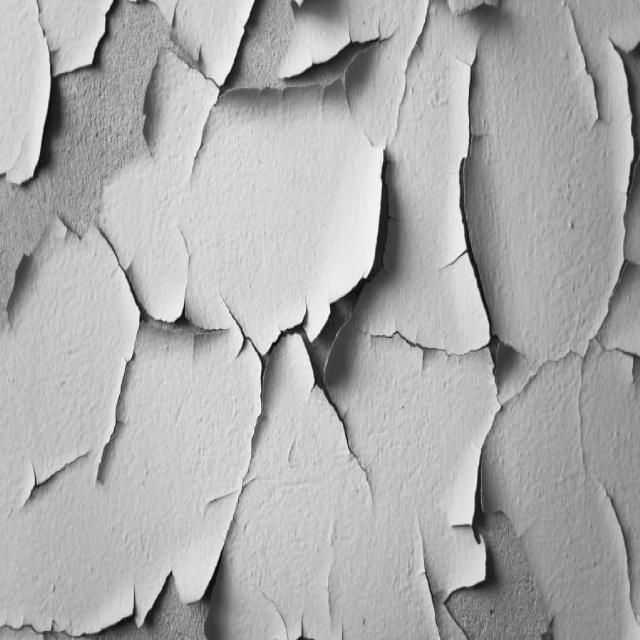peeling: (13, 7, 387, 291), (438, 70, 526, 624), (263, 147, 401, 390), (91, 289, 232, 492), (581, 35, 639, 371), (51, 557, 226, 639)
